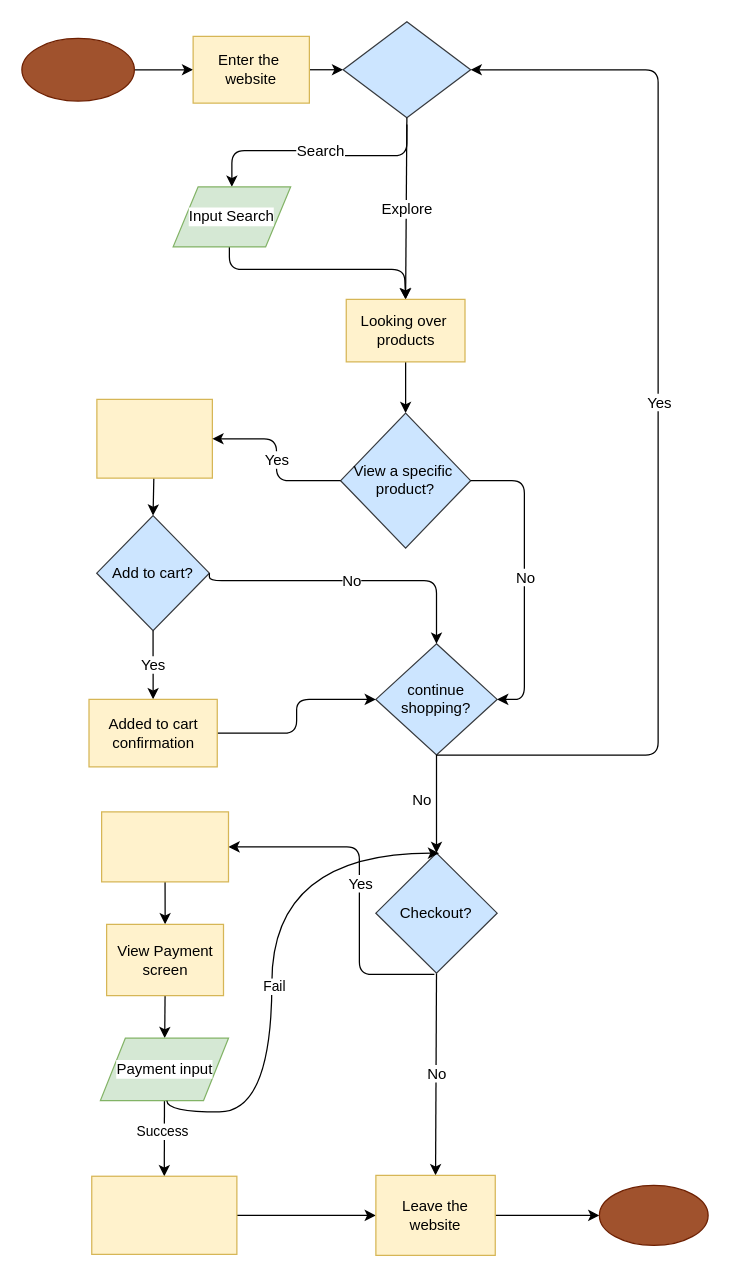
This 730x1278 diagram has some shape labels left out. The shapes that lost their labels are listed below. From the top down, each one's box as (x1, y1, x2, y2) in pixels, then its label:
(21, 37, 134, 101): Start
(342, 20, 471, 118): Search or Explore?
(96, 398, 212, 478): Product's webpage be opened
(100, 811, 228, 882): View Cart screen
(90, 1175, 237, 1254): Order comfirmation screen and receive an email
(598, 1184, 708, 1245): End
